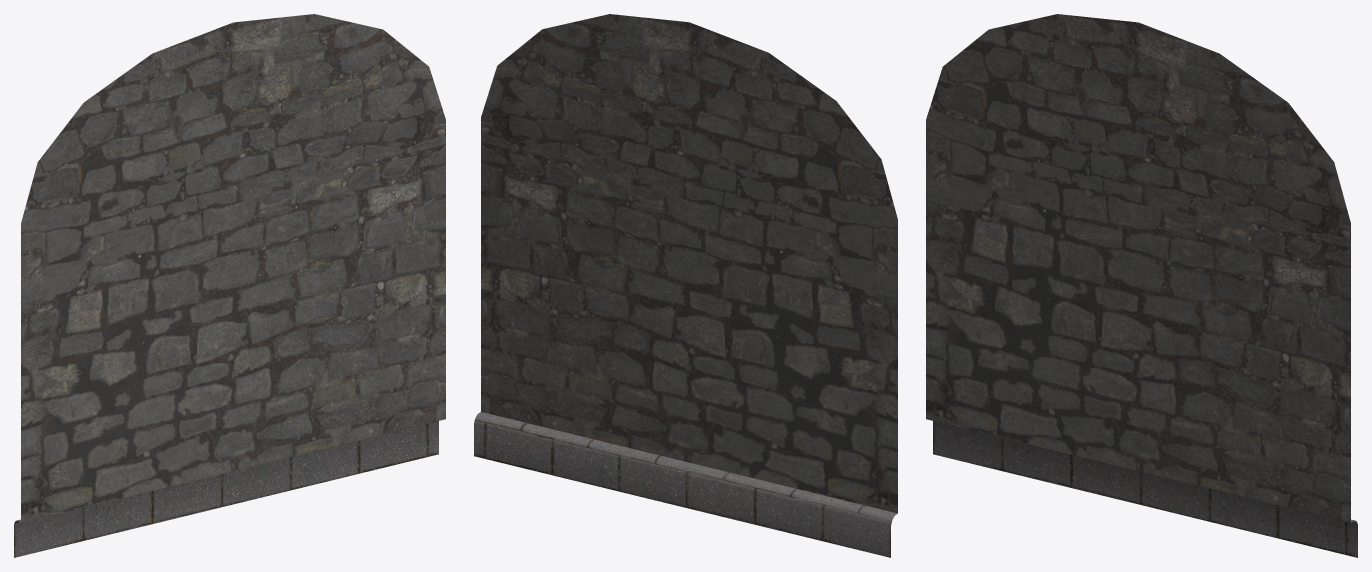
The model's file is wall.fbx.
The picture shows the model from 3 angles, left to right: view 1: azimuth 30°, elevation 25°; view 2: azimuth 150°, elevation 25°; view 3: azimuth 330°, elevation 25°; orthographic projection.
Visible parts, largest first — view 1: Cube.010; view 2: Cube.010; view 3: Cube.010.
Part boxes in pixels (x1,y1,x2,y2): Cube.010: (14, 14, 445, 557); Cube.010: (474, 14, 897, 557); Cube.010: (926, 14, 1357, 557).
Size of the model in its own units: 171 by 187 by 4.84.
